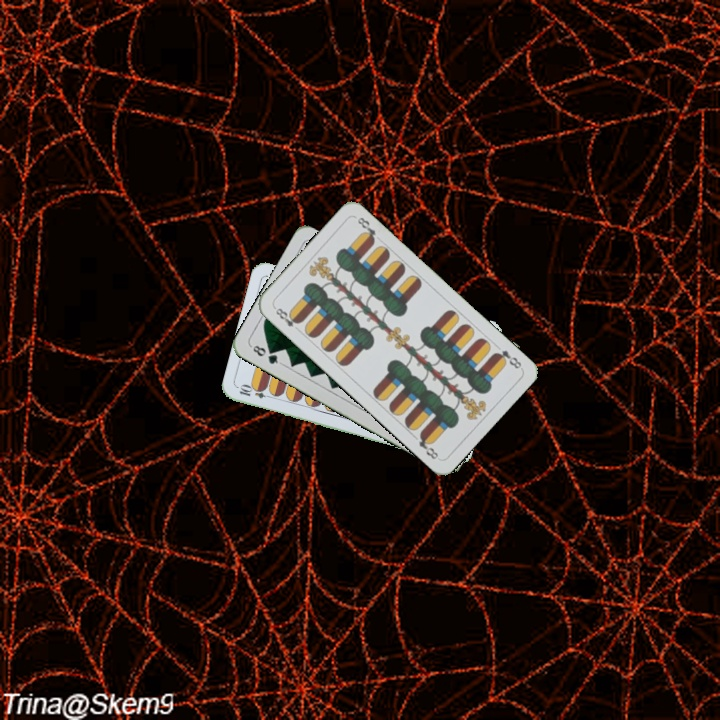E10: (235, 382, 276, 401)
E8: (270, 303, 303, 330), (490, 346, 524, 371)
G8: (247, 341, 284, 367)
